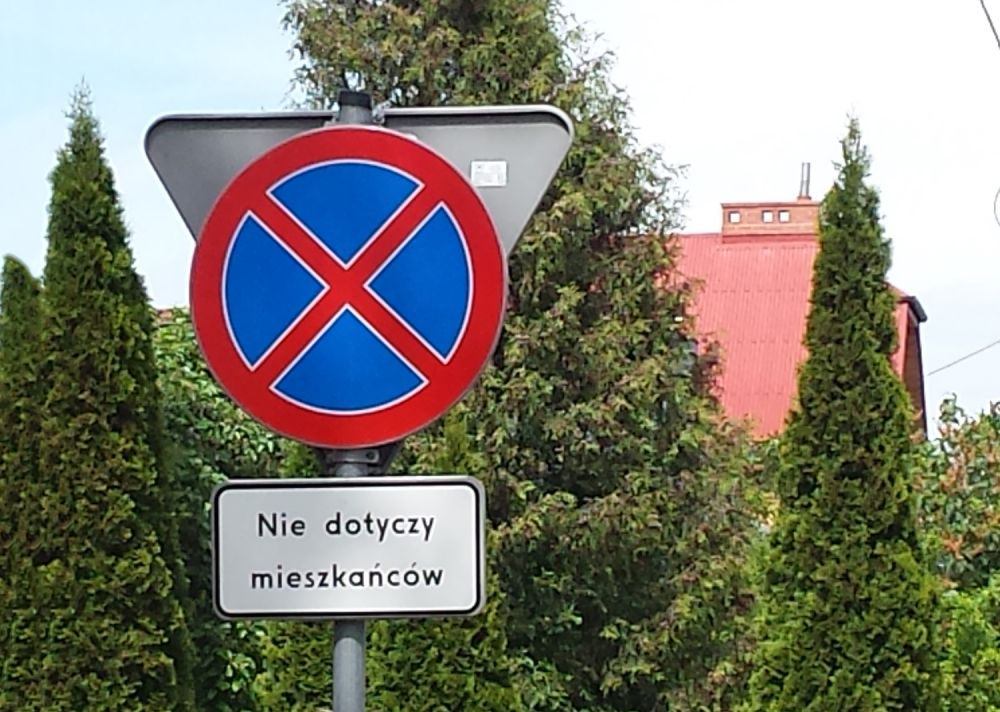no_stopping_sign: (189, 125, 505, 449)
